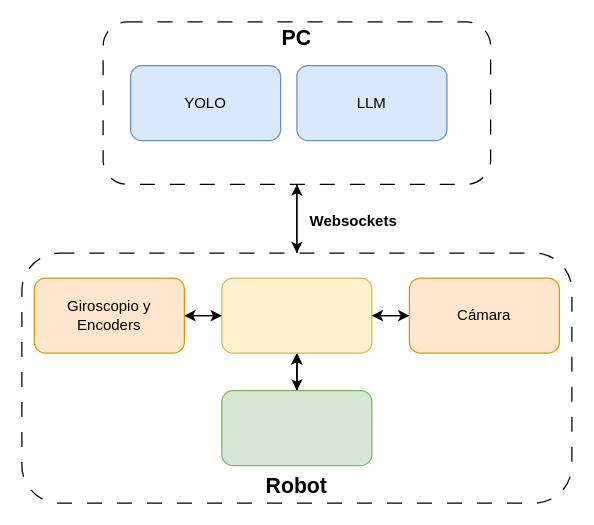
Image size: 594x525. Some labels were removed from this diagram. Each missing label, with the centre of its shape:
"Motores" goes at pixel 296 427.
"Raspberry Pi 4" goes at pixel 296 315.
